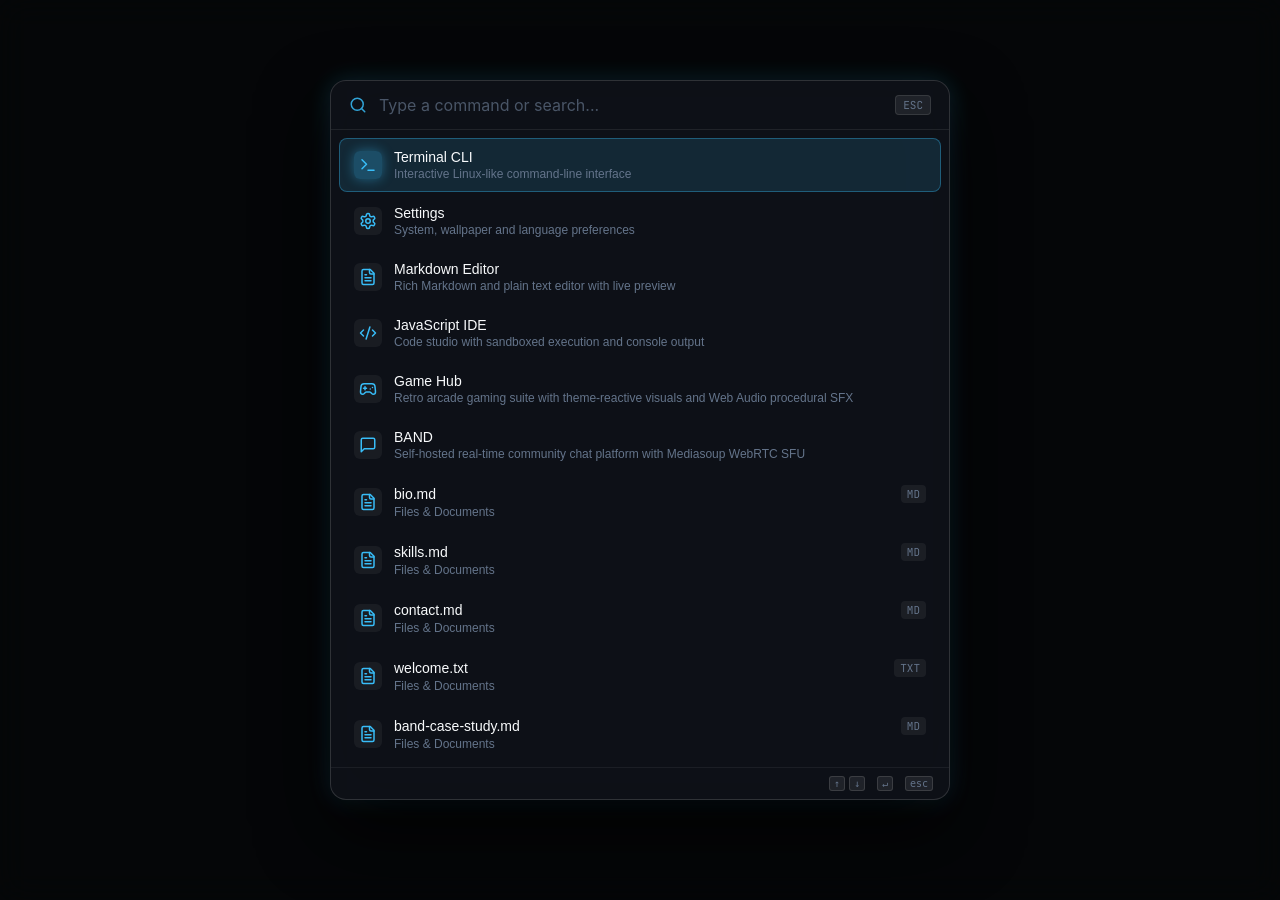
CommandPalette Component › filters items dynamically based on search query
Type "terminal" into the field with test id "command-palette-input" at (631, 105), box top-left (379, 95), bottom-right (883, 115)
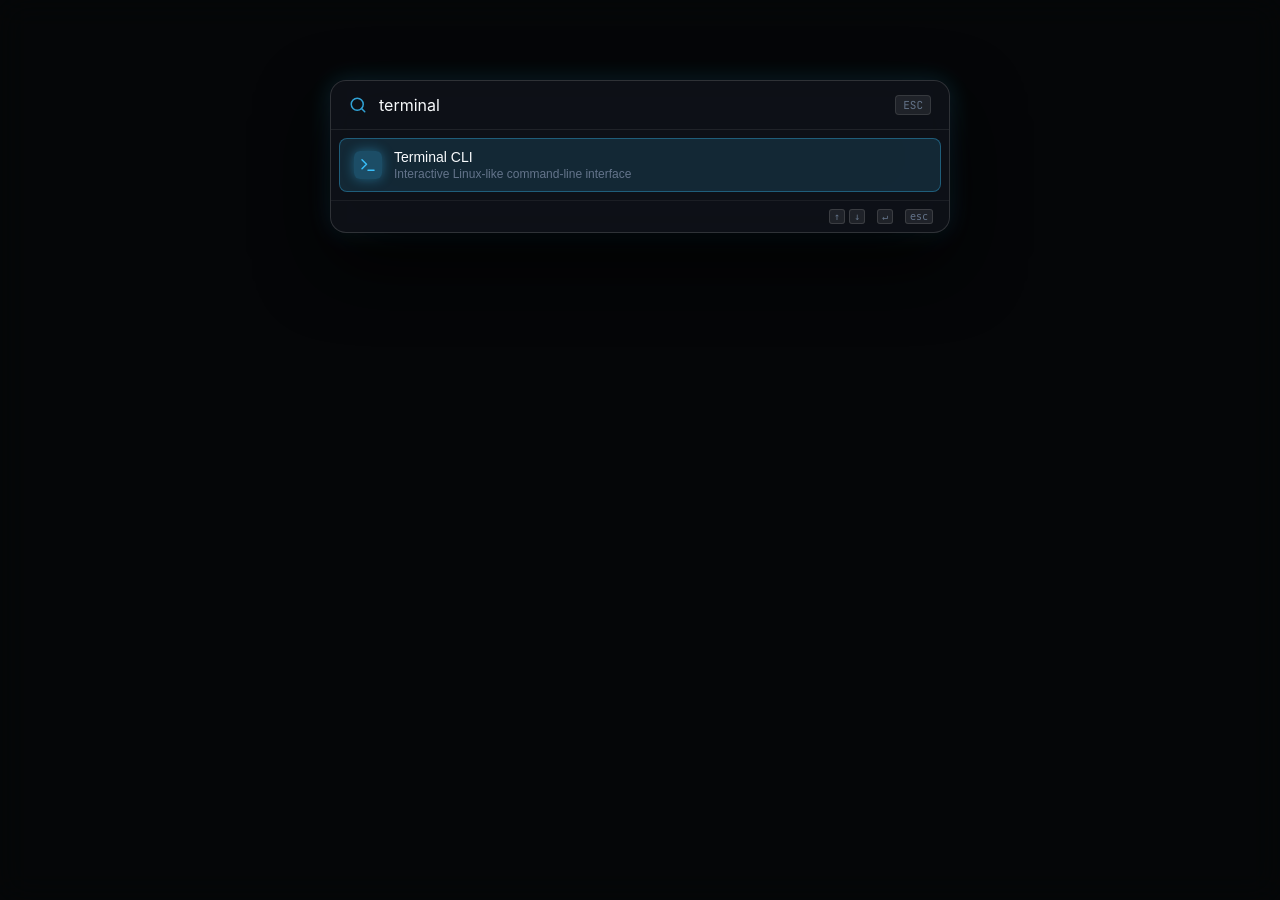
Expected: the text "Terminal CLI" is shown, top-left (394, 149), bottom-right (473, 165)
Result: the option "Game Hub" is gone
